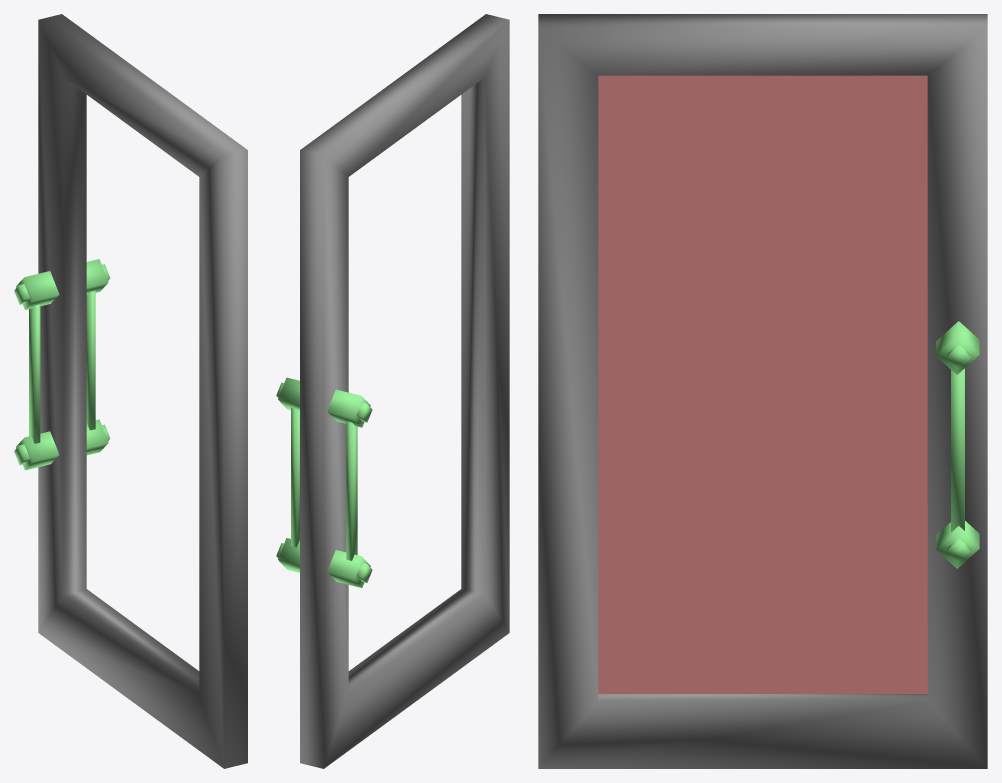
The model's file is SM_doorShop_02.gltf.
3 views of the same model, side by side, from view 1: azimuth 30°, elevation 25°; view 2: azimuth 150°, elevation 25°; view 3: azimuth 270°, elevation 25° (orthographic). The views are drawn at different scales.
Visible parts, largest first — view 1: SM_doorShop_02; view 2: SM_doorShop_02; view 3: SM_doorShop_02.
Boxes of the visible parts, <box> form: SM_doorShop_02: <box>14,14,247,768</box>; SM_doorShop_02: <box>276,14,509,768</box>; SM_doorShop_02: <box>538,14,987,768</box>.
Bounding box in the file's own units: 0.3186 × 2.18 × 1.2.
